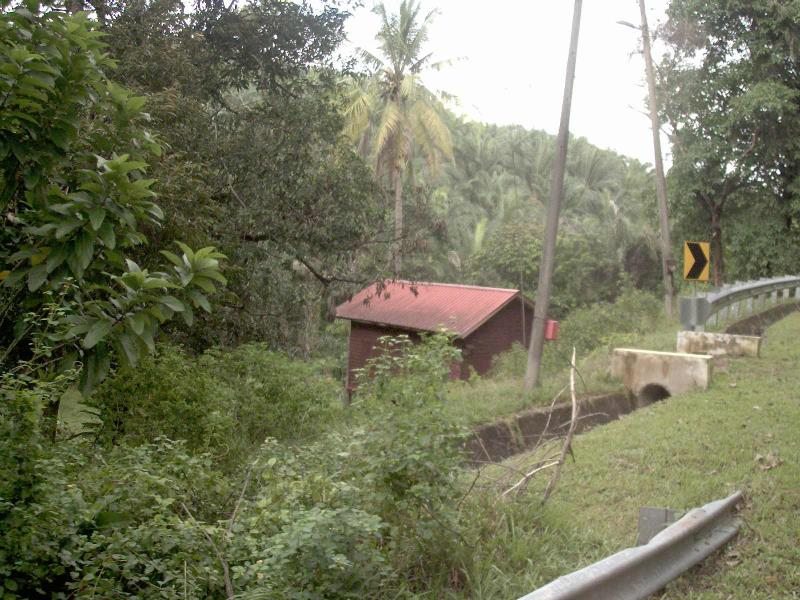traffic_sign: (675, 232, 719, 292)
